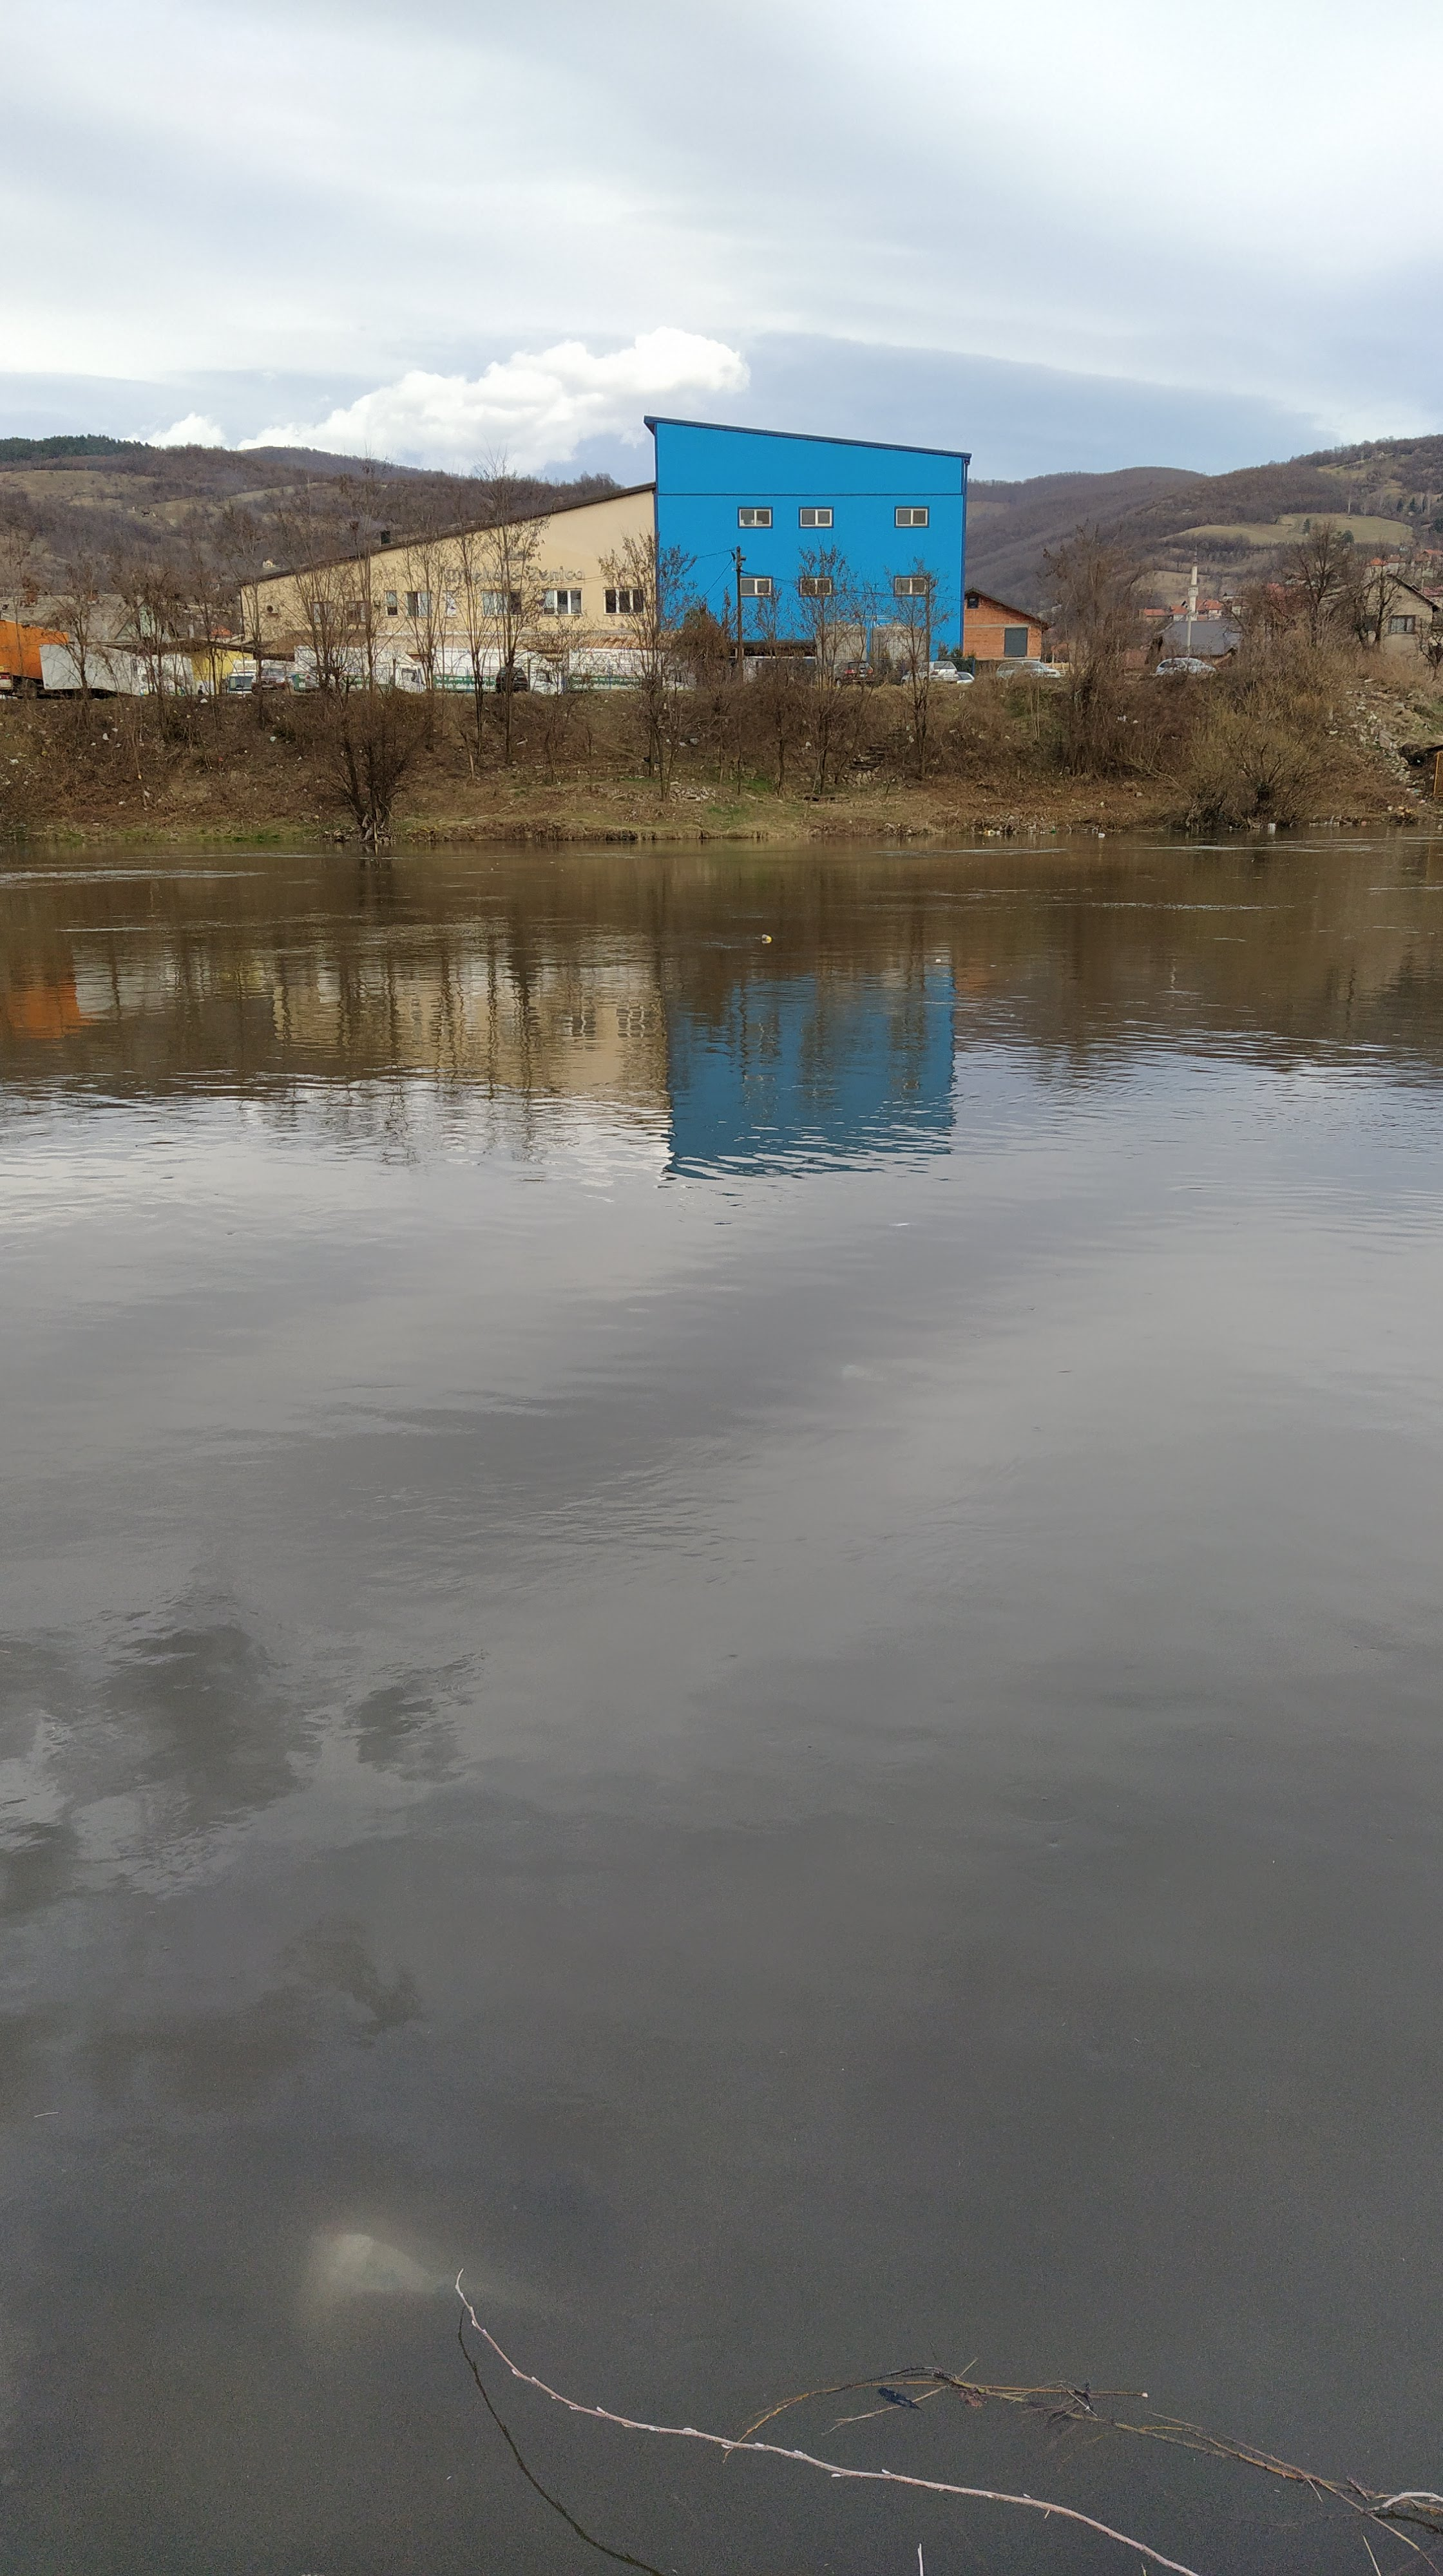Plastic Bottle: (761, 934, 770, 941), (1268, 823, 1275, 826), (1098, 833, 1105, 835), (1052, 830, 1055, 833)
